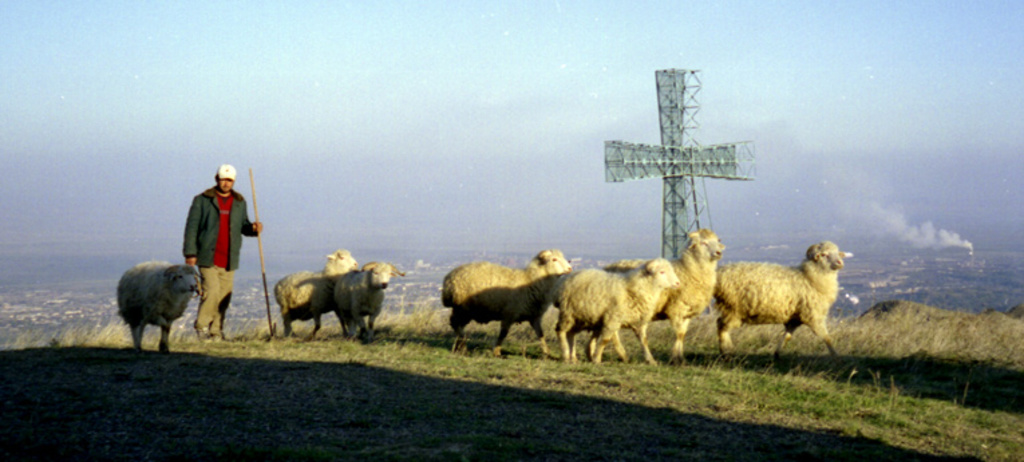sheep: (117, 261, 206, 354)
